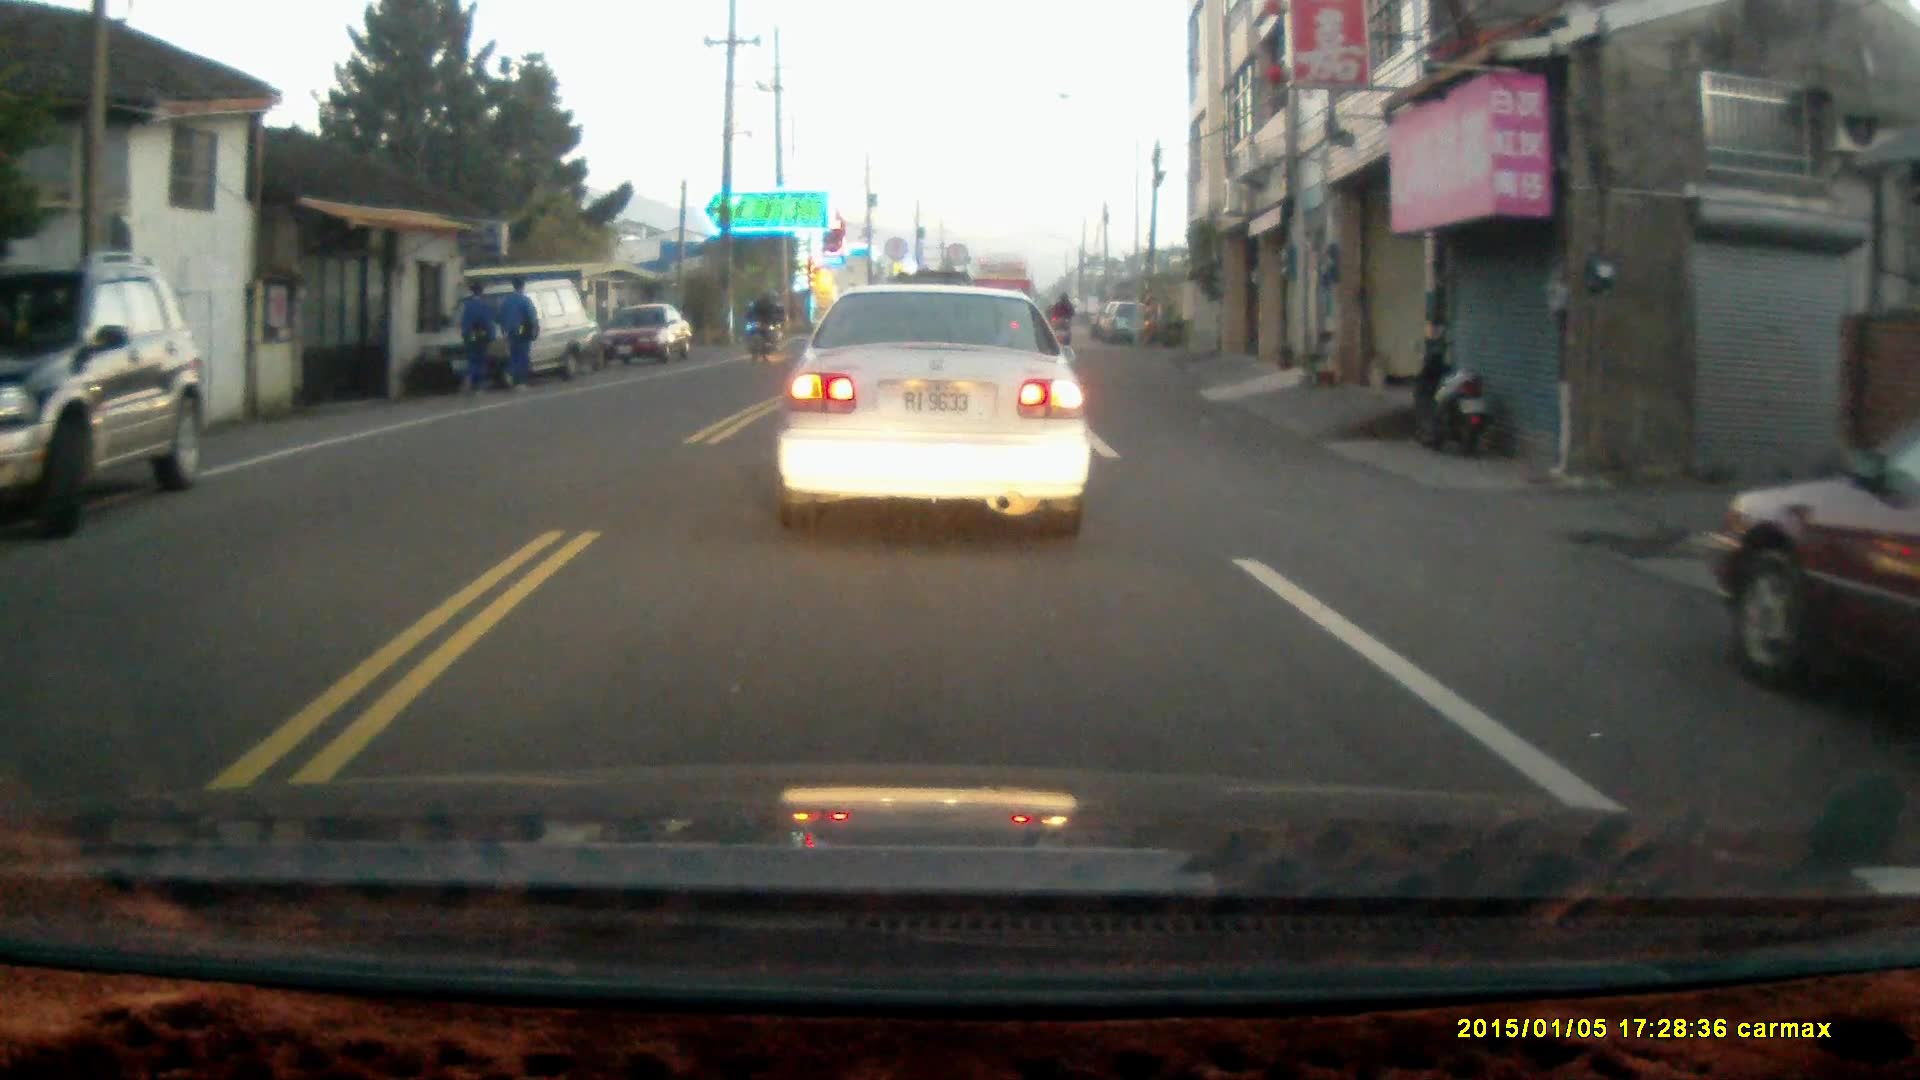pedestrian: (499, 274, 537, 395), (455, 283, 495, 398)
rider: (741, 292, 779, 360)
vehicle: (775, 278, 1099, 534), (1, 260, 208, 542), (1705, 442, 1920, 705), (447, 274, 606, 382), (595, 303, 697, 364)
